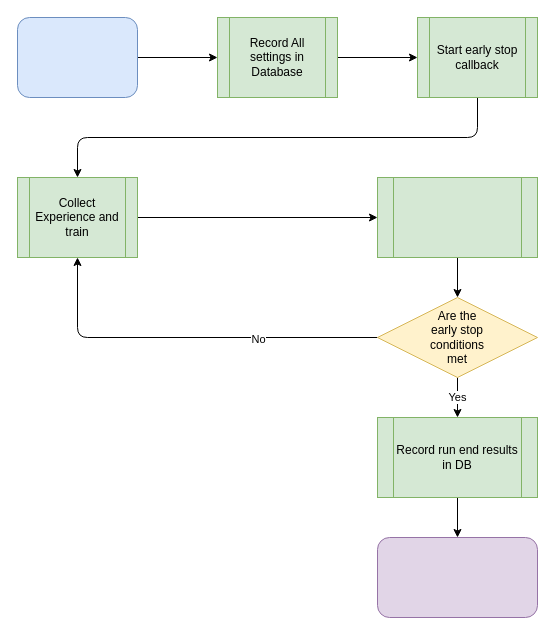
The diagram is 555 pixels wide and 635 high, and some of its shapes have lost their labels. The shapes that lost their labels are listed below. From the top down, each one's box as (x1, y1, x2, y2) in pixels, then its label:
(16, 16, 138, 98): User runs 'dr-start-training'
(376, 176, 538, 258): Do run check
(376, 536, 538, 618): Stop session automatically with 'dr-stop-training'
